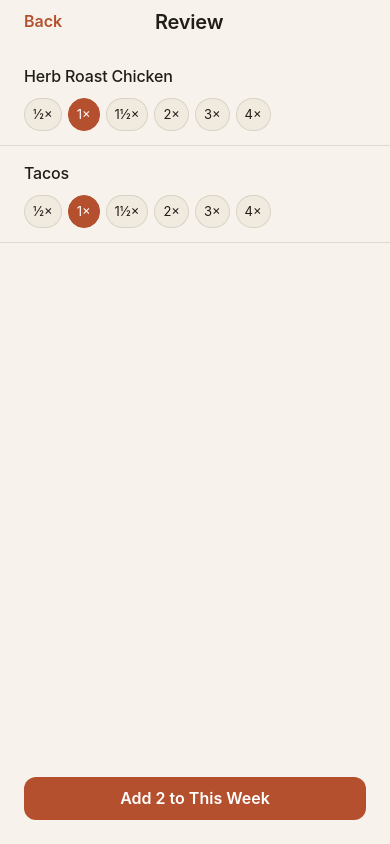
Test case: on success, toasts the added count and dismisses back to This Week
Check: the text "Herb Roast Chicken" is shown, box [24, 66, 173, 86]
Click the button with test id "review-submit": x=195, y=798 [24, 777, 366, 820]
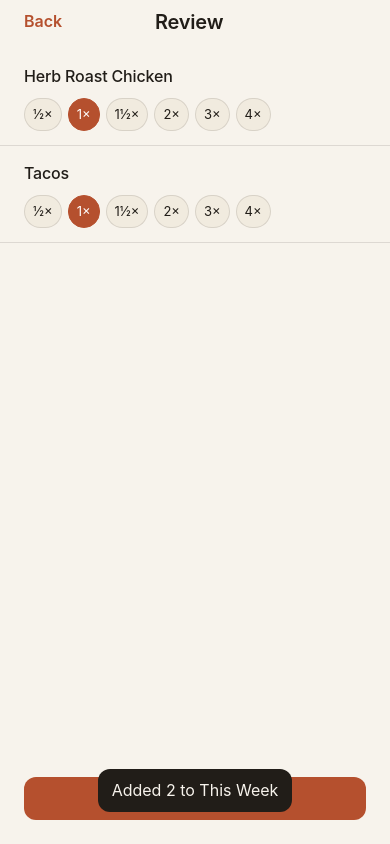
Check: the text "Added 2 to This Week" is shown, box [112, 777, 278, 804]
